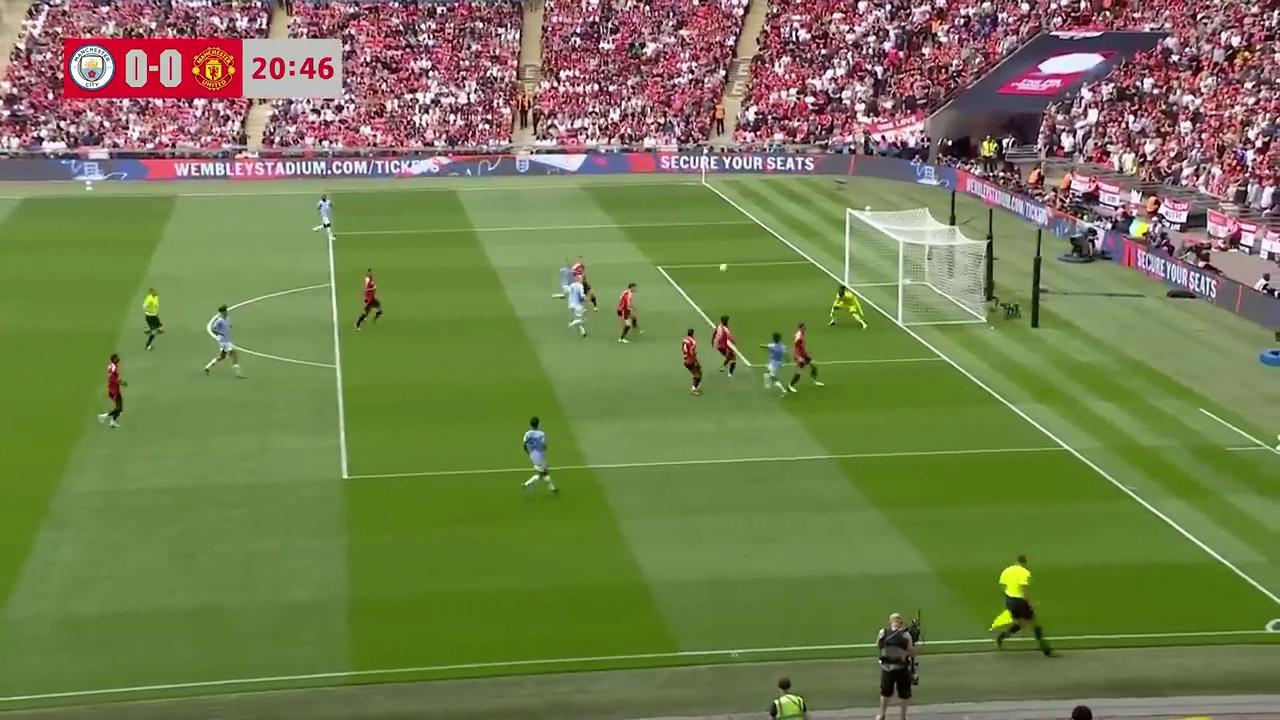ball: (761, 371, 771, 386)
player: (521, 416, 559, 493), (203, 306, 242, 377), (787, 322, 824, 390), (100, 353, 128, 429), (712, 316, 743, 376), (354, 268, 383, 332), (827, 286, 867, 329), (762, 332, 789, 393), (562, 273, 588, 336), (615, 283, 640, 342), (681, 328, 701, 395), (570, 255, 594, 309), (313, 193, 334, 237)
referee: (993, 553, 1052, 654), (142, 287, 165, 351)
